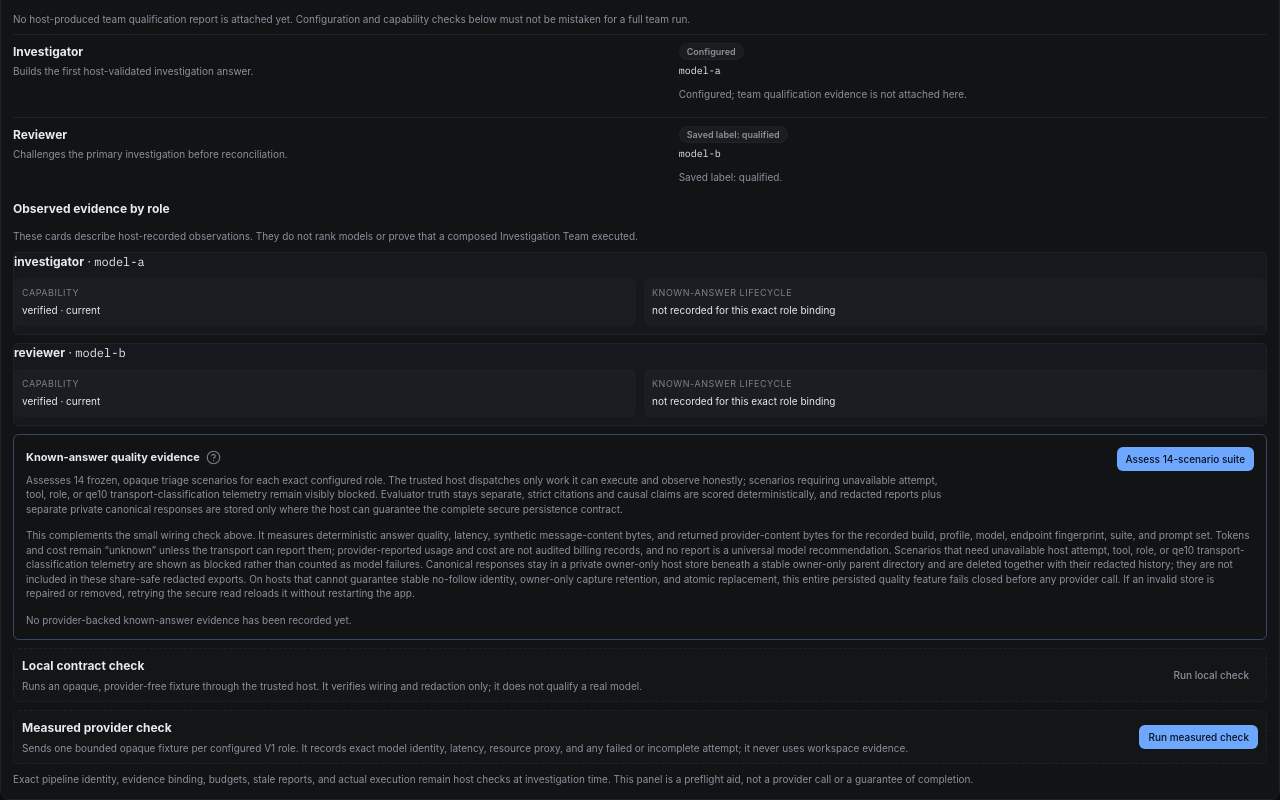
Test: InvestigationTeamReadinessPanel › surfaces measured-host setup errors without retaining an old report
(page scrolled)
What coordinates should you click on to do the following:
click the button with test id "investigation-team-run-live"
I would click on:
 (1199, 737)
Its box is x1=1140 y1=725 x2=1258 y2=749.
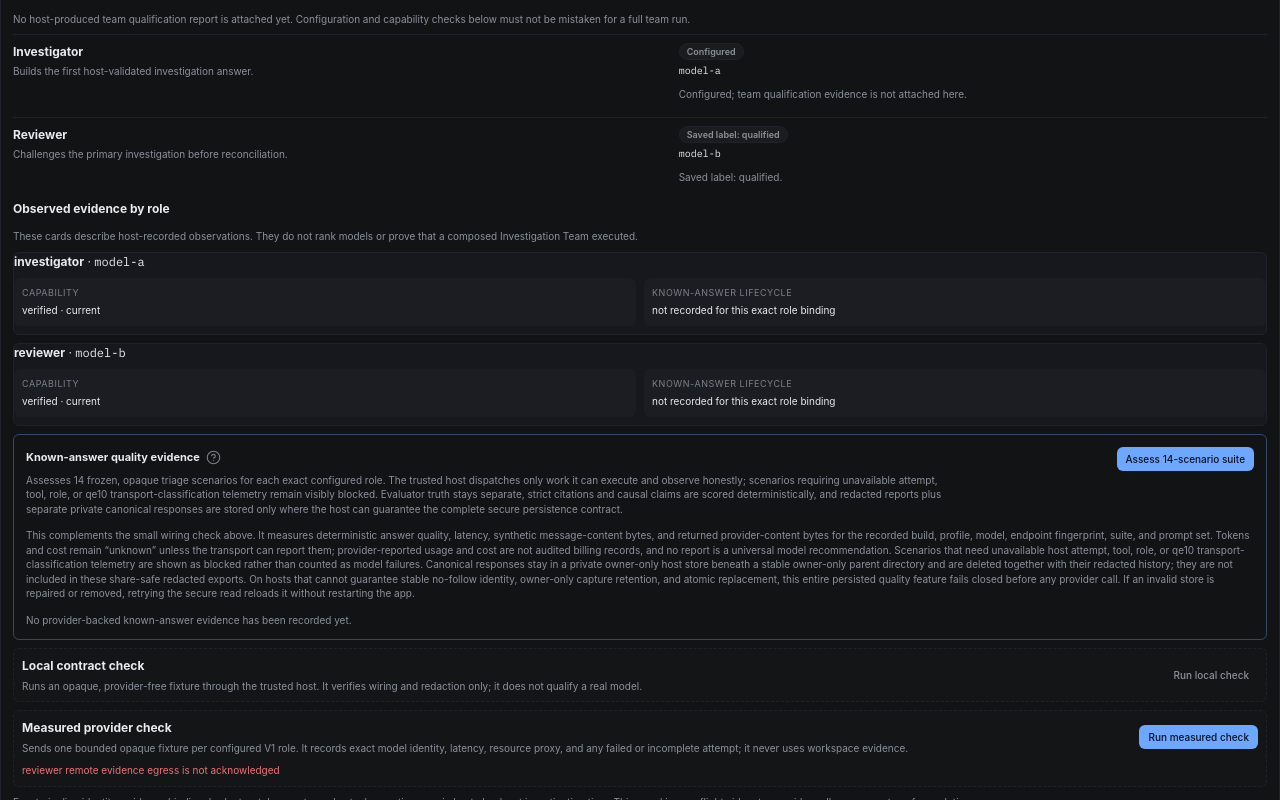
Now the message with test id "investigation-team-live-error" shows "remote evidence egress", box x1=22 y1=764 x2=280 y2=776
